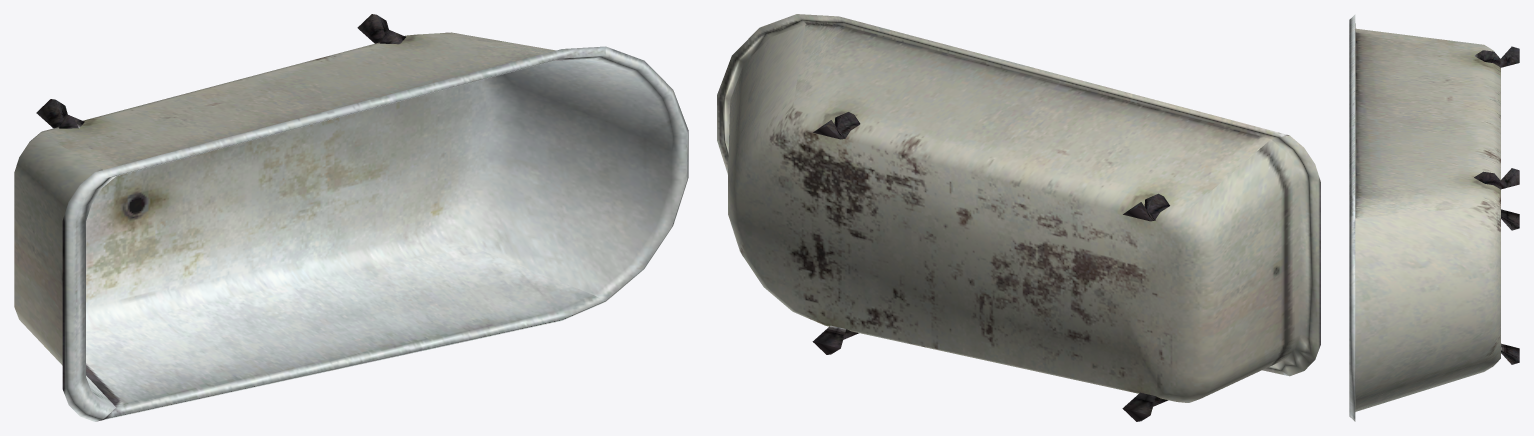
Rendered from bathtub_no_plump.dae.
3 renders of one model, left to right at view 1: azimuth 30°, elevation 25°; view 2: azimuth 150°, elevation 25°; view 3: azimuth 270°, elevation 25°, orthographic. The views are drawn at different scales.
Parts seen in each view (by area): view 1: bathtub; view 2: bathtub; view 3: bathtub.
Boxes of the visible parts, x1=… form: bathtub: x1=14, y1=14, x2=688, y2=421; bathtub: x1=717, y1=14, x2=1320, y2=421; bathtub: x1=1349, y1=14, x2=1519, y2=421.
Size of the model in its own units: 9.53 by 2.78 by 3.95.
1 material, 1 textured.
